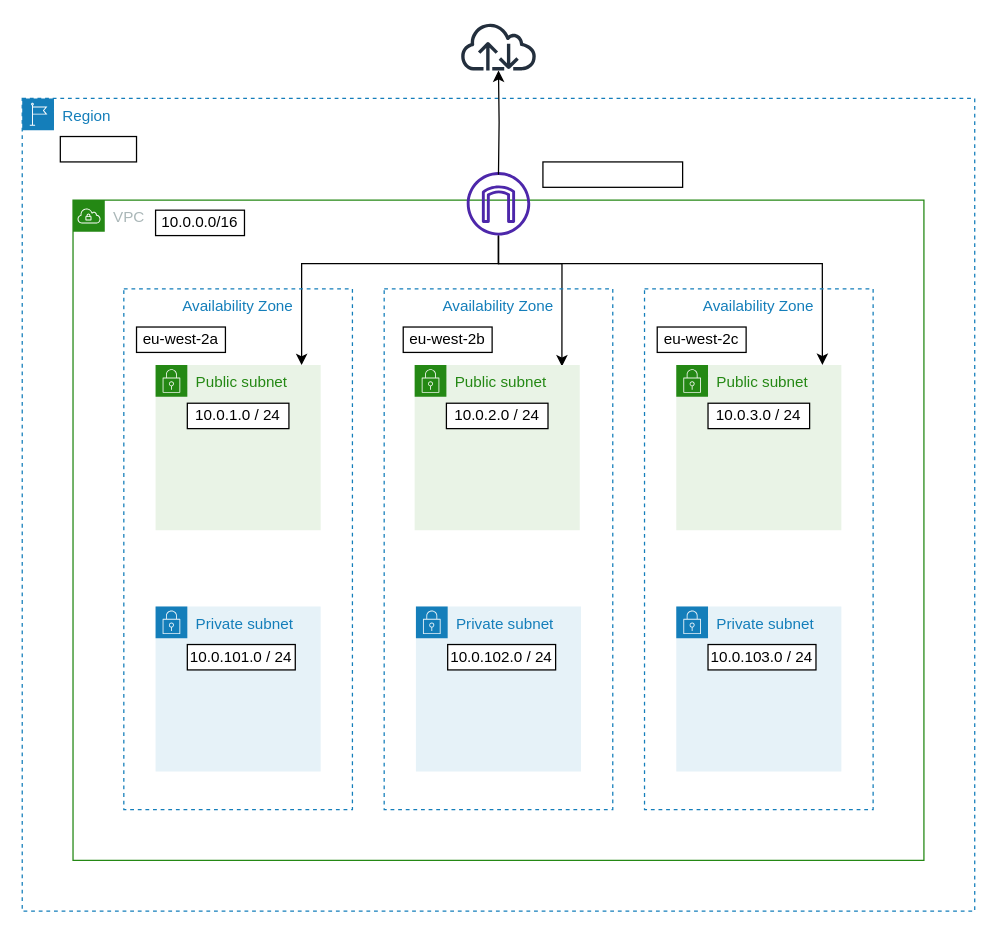
This 997x933 diagram has some shape labels left out. The centre of each missing label's shape, as x and y in pixels:
eu-west-2: point (98, 148)
Internet Gateway: point (612, 174)
